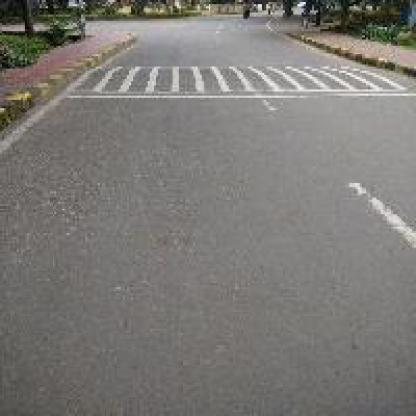Speed Bump: (54, 60, 414, 100)
